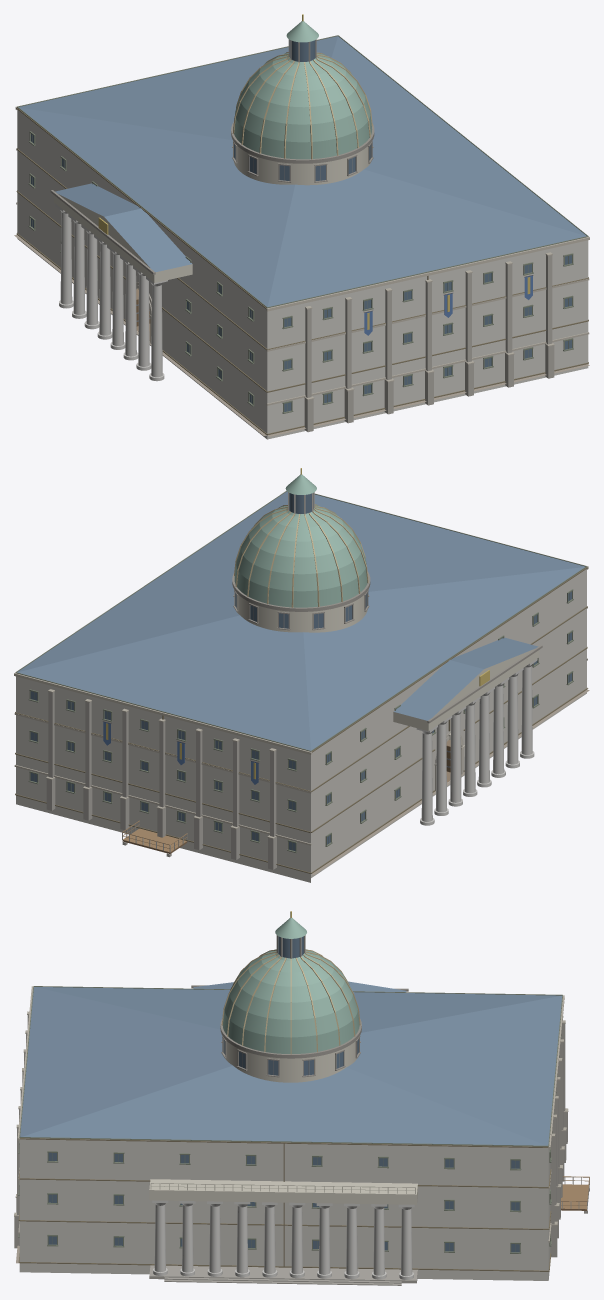
3 views of the same model, one above another, from view 1: azimuth 30°, elevation 25°; view 2: azimuth 150°, elevation 25°; view 3: azimuth 270°, elevation 25° (orthographic). The views are drawn at different scales.
Visible parts, largest first — view 1: C02_visible; view 2: C02_visible; view 3: C02_visible.
Part boxes in pixels (x1,y1,x2,y2): C02_visible: [14, 14, 589, 439]; C02_visible: [14, 468, 589, 882]; C02_visible: [14, 911, 589, 1285].
Size of the model in its own units: 58.27 by 42.03 by 75.72.
